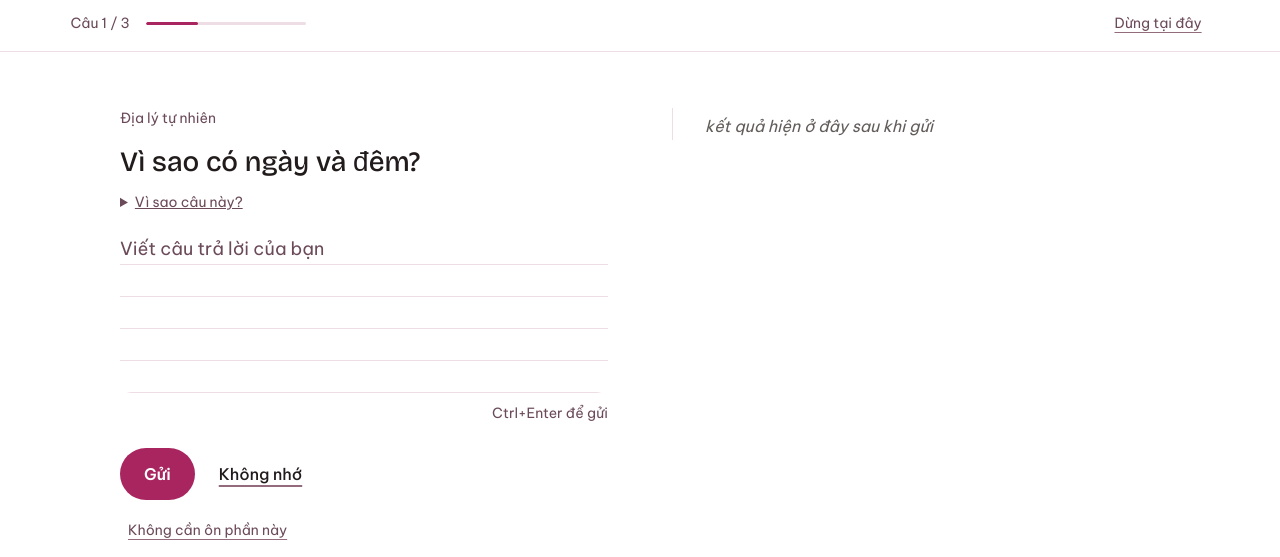
it: ReviewScreen (T2.15) › US-04 AC3: typing is kept here at once and saved to core-api after a pause
Step 1. Type "T" into the text box labelled "câu trả lời của bạn" → (364, 313), box [120, 233, 608, 393]
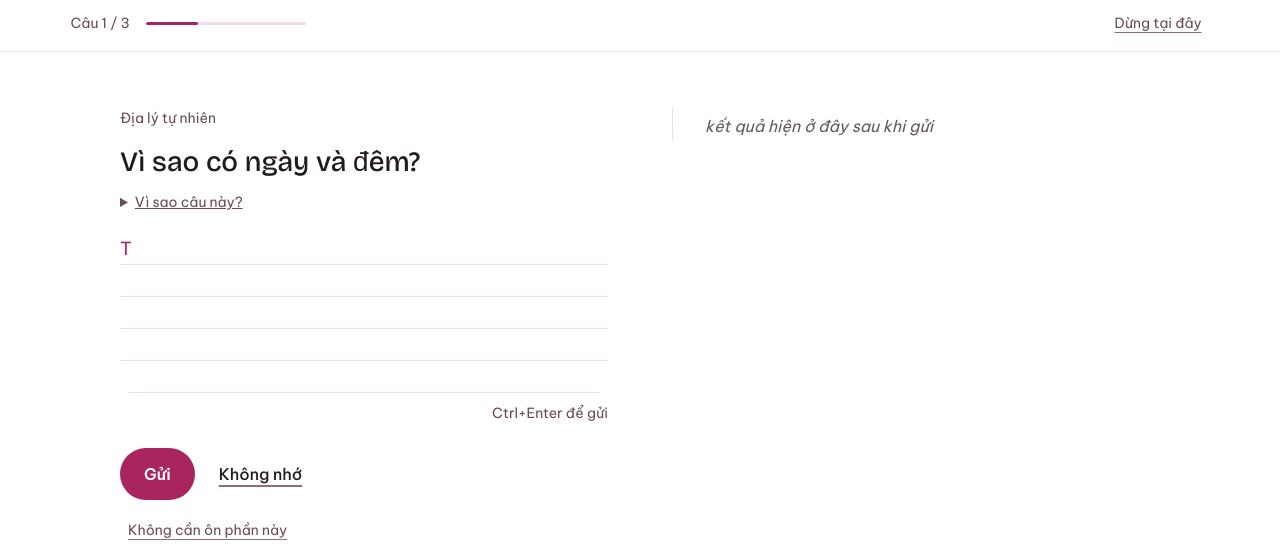
Step 2. Replace the text in the text box named "câu trả lời của bạn" with "TCP" → (364, 313), box [120, 233, 608, 393]
Wait 1600 ms
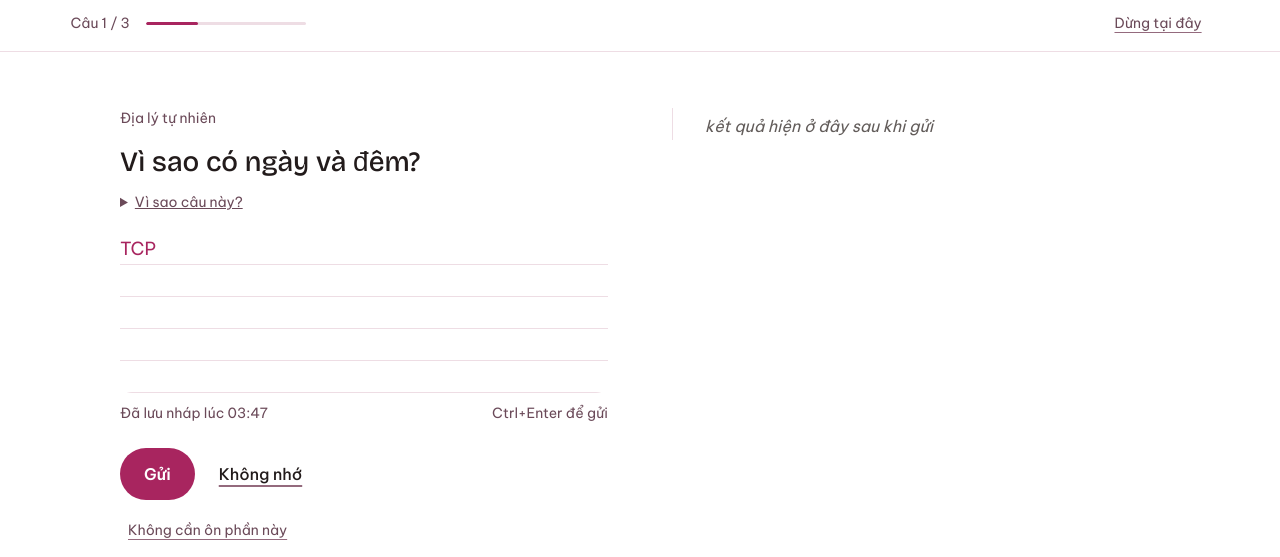
Now the text "Đã lưu nháp lúc 03:47" is shown, box [120, 403, 268, 424]
